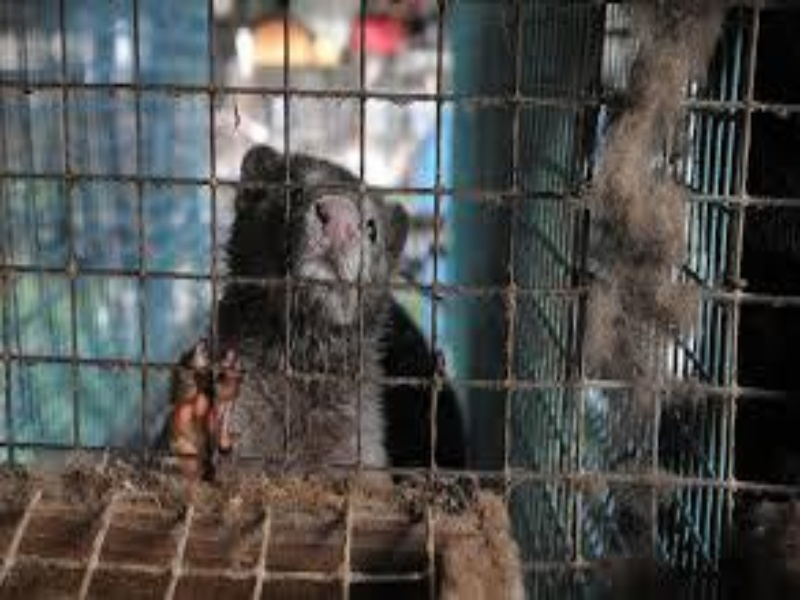minkish: (157, 141, 413, 477)
